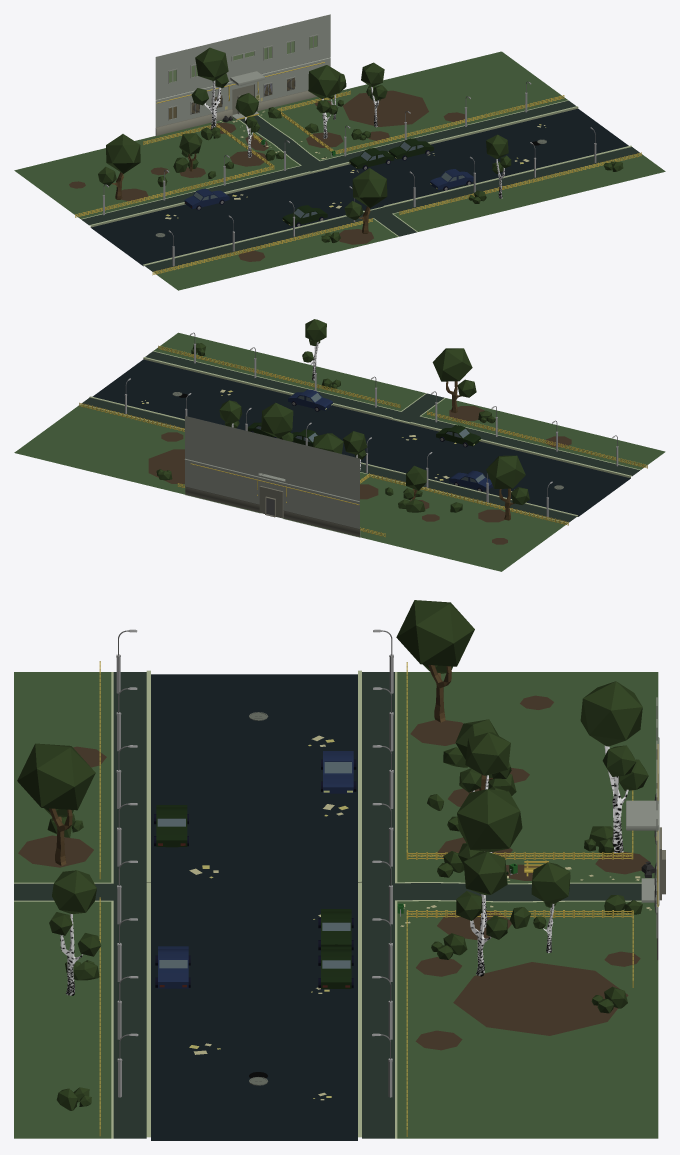
Rendered from Location_Outdoor_Part2_exp2.fbx.
The picture shows the model from 3 angles, top to bottom: view 1: azimuth 30°, elevation 25°; view 2: azimuth 150°, elevation 25°; view 3: azimuth 270°, elevation 25°; orthographic projection. The views are drawn at different scales.
Parts seen in each view (by area): view 1: Plane, Plane.025, Plane.003, Icosphere.027, Icosphere.013, Cube.012, Cube.014, Icosphere.019, Cube.015, Icosphere.016, Cube.008, Cylinder.002 (+13 smaller); view 2: Plane, Plane.025, Icosphere.027, Icosphere.013, Cube.014, Plane.003, Icosphere.019, Cube.015, Cube.008, Cylinder.001, Cube.020, Cube.022 (+9 smaller); view 3: Plane, Plane.003, Icosphere.013, Icosphere.027, Icosphere.019, Icosphere.016, Cylinder.002, Cylinder.001, Plane.025, Icosphere.002, Icosphere.022, Icosphere.030 (+14 smaller).
Boxes of the visible parts, bbox=[...] form: Plane: bbox=[14, 51, 665, 290]; Plane.025: bbox=[155, 14, 330, 135]; Plane.003: bbox=[343, 90, 428, 126]; Icosphere.027: bbox=[352, 168, 387, 207]; Icosphere.013: bbox=[106, 134, 140, 173]; Cube.012: bbox=[335, 95, 564, 153]; Cube.014: bbox=[399, 152, 641, 214]; Icosphere.019: bbox=[308, 65, 340, 98]; Cube.015: bbox=[152, 218, 372, 275]; Icosphere.016: bbox=[195, 47, 228, 80]; Cube.008: bbox=[75, 166, 274, 217]; Cylinder.002: bbox=[102, 81, 531, 215]; Plane: bbox=[14, 332, 665, 571]; Plane.025: bbox=[184, 416, 360, 537]; Icosphere.027: bbox=[432, 348, 472, 381]; Icosphere.013: bbox=[486, 455, 525, 488]; Cube.014: bbox=[158, 345, 400, 408]; Plane.003: bbox=[148, 449, 184, 483]; Icosphere.019: bbox=[261, 402, 293, 438]; Cube.015: bbox=[427, 411, 647, 468]; Cube.008: bbox=[369, 473, 568, 525]; Cylinder.001: bbox=[190, 332, 618, 466]; Cube.020: bbox=[436, 425, 480, 446]; Cube.022: bbox=[288, 389, 332, 410]; Plane: bbox=[14, 670, 658, 1140]; Plane.003: bbox=[453, 962, 628, 1035]; Icosphere.013: bbox=[396, 600, 474, 666]; Icosphere.027: bbox=[17, 743, 95, 810]; Icosphere.019: bbox=[457, 789, 522, 851]; Icosphere.016: bbox=[580, 681, 642, 746]; Cylinder.002: bbox=[372, 629, 393, 1097]; Cylinder.001: bbox=[116, 629, 138, 1097]; Plane.025: bbox=[626, 737, 661, 960]; Icosphere.002: bbox=[465, 732, 510, 775]; Icosphere.022: bbox=[463, 851, 507, 894]; Icosphere.030: bbox=[52, 870, 96, 913].
Size of the model in its own units: 44337 by 7578 by 25979.
41 materials, 1 textured.
